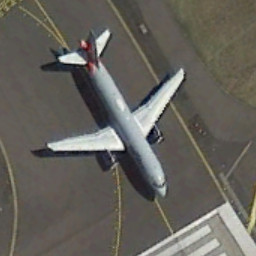Airplane: (31, 21, 195, 221)
